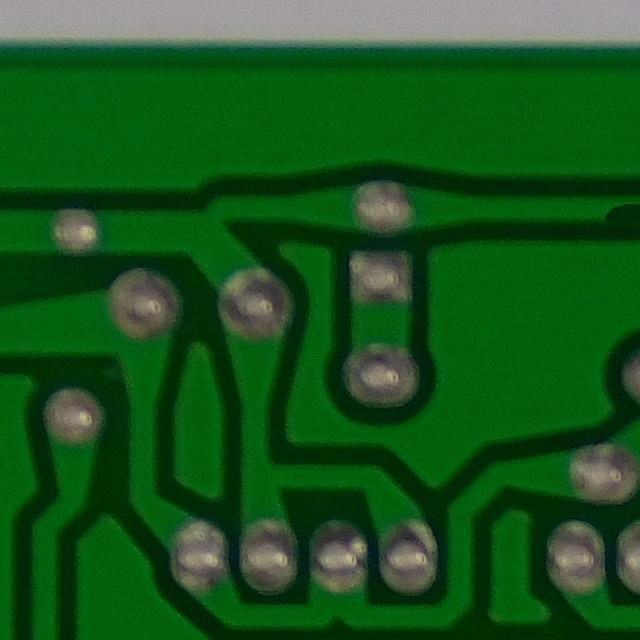mouse_bite: (575, 177, 640, 255)
